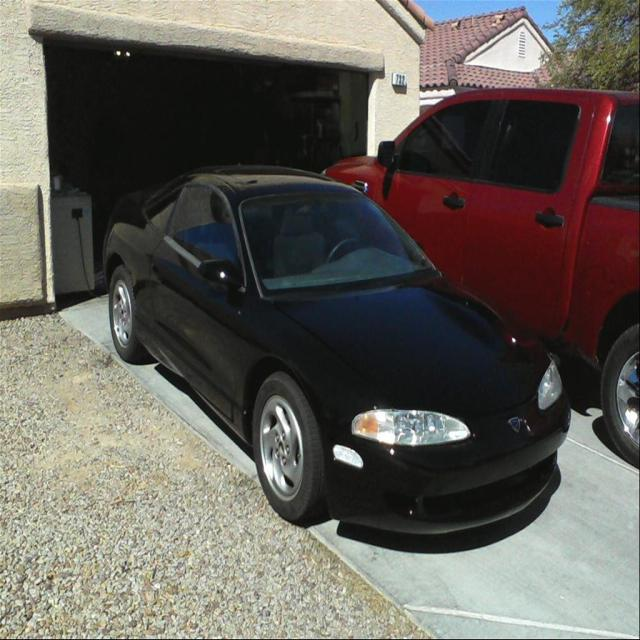Car: (77, 155, 564, 563), (320, 45, 640, 337)
